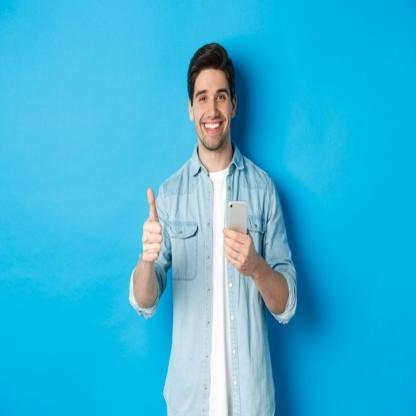thumb_up: (137, 181, 170, 268)
